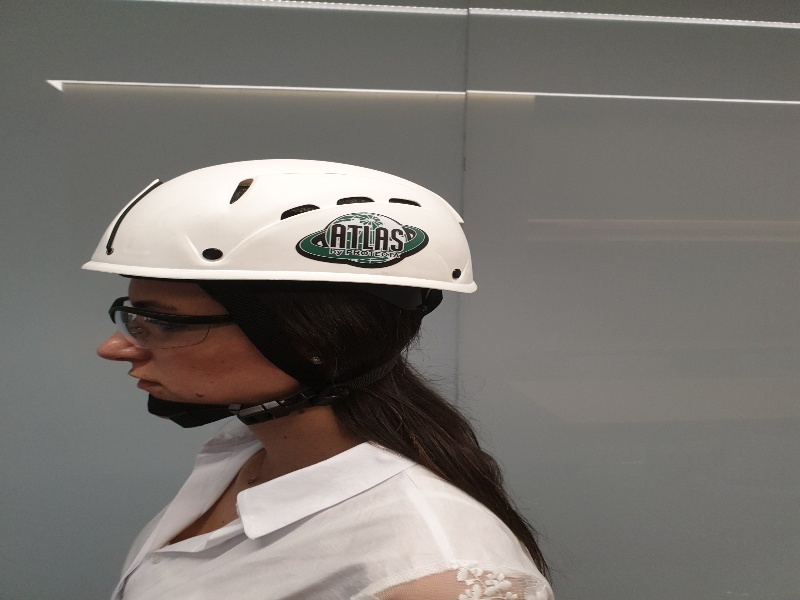Baret: (83, 156, 498, 289)
Gozluk: (106, 293, 284, 351)
